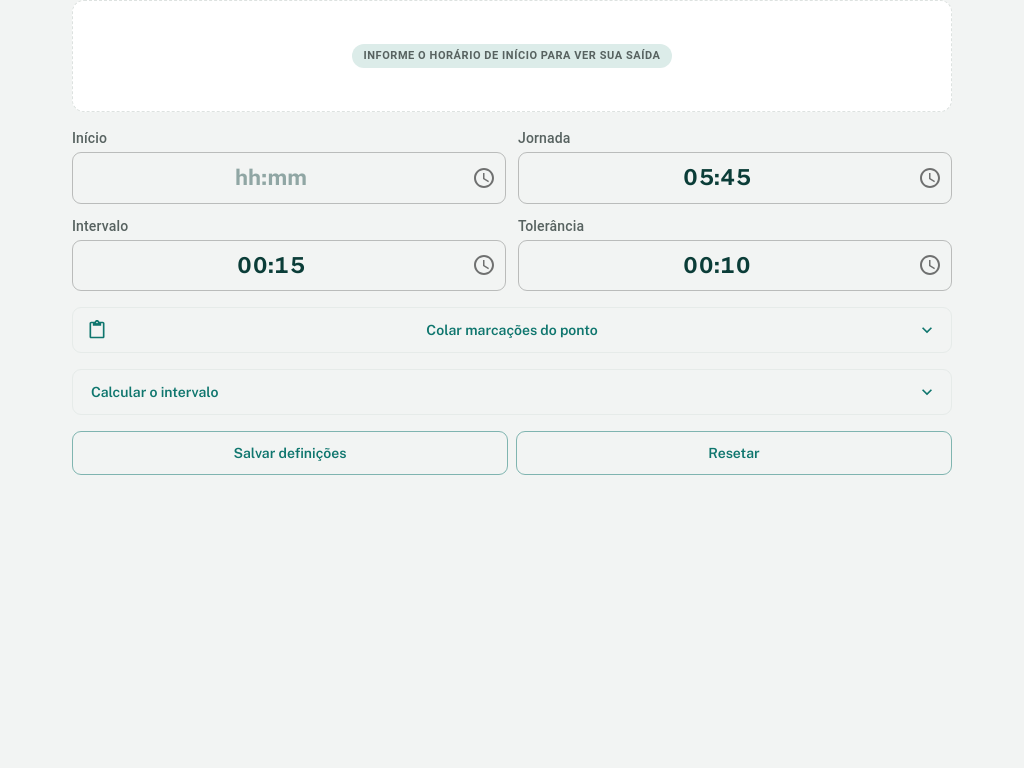
Test: pasting a line of punch marks › into Jornada › says so when the marks show the day already closed
Click the button "Colar marcações do ponto" at (512, 330), box [73,308,951,352]
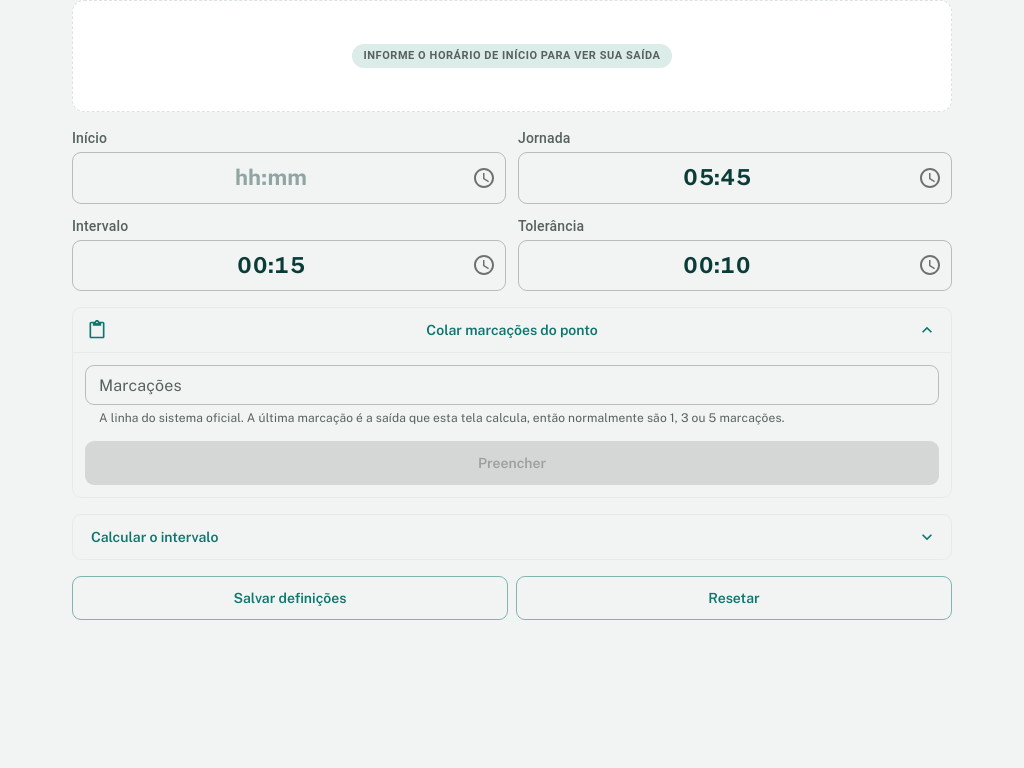
Type "08:00 12:00" into the field labelled "Marcações" at (512, 385), box [85,365,939,405]
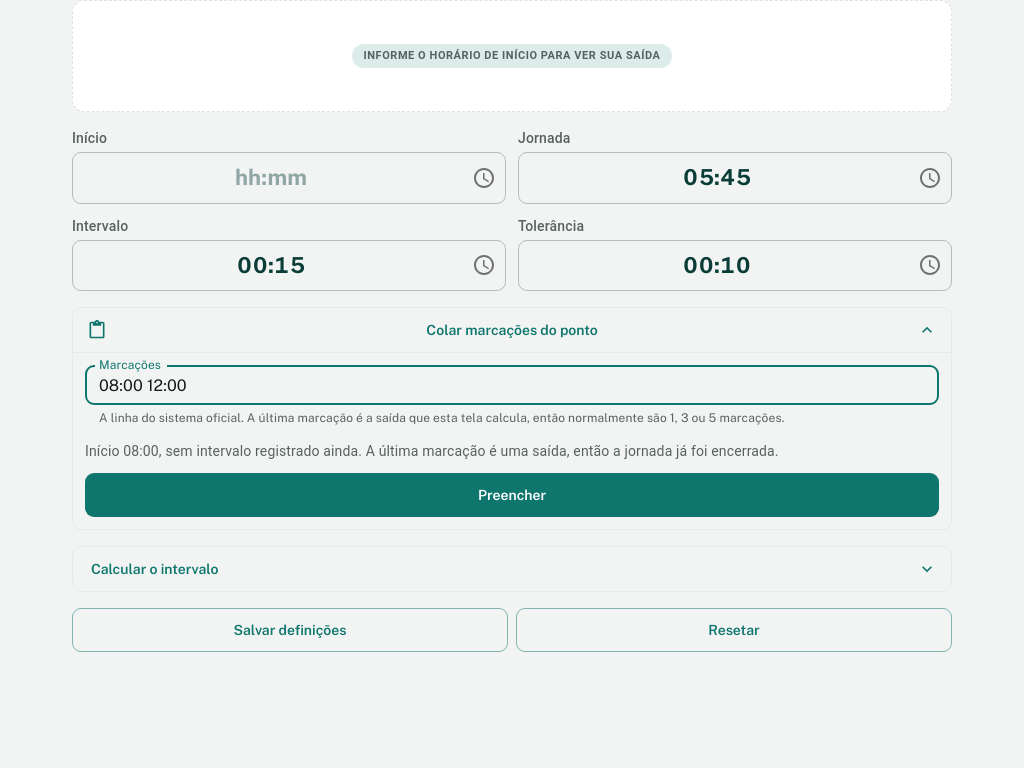
expect the text "a jornada já foi encerrada" is shown: met, box [85,443,779,459]
